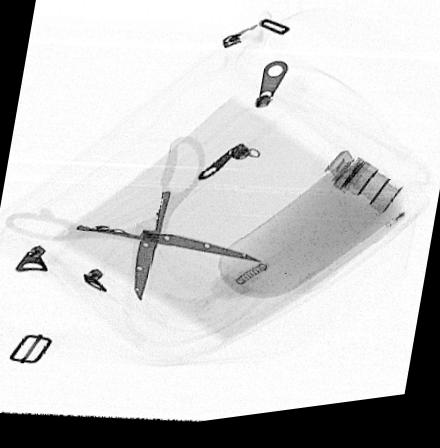Scissors: (3, 140, 264, 306)
